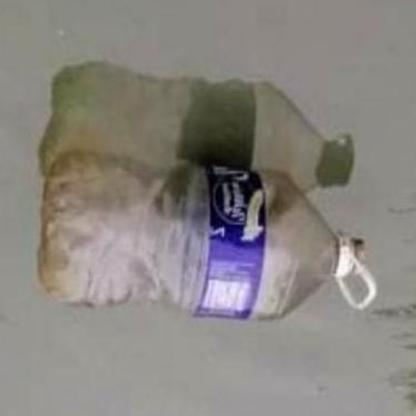plastic bottle: (35, 154, 379, 319)
